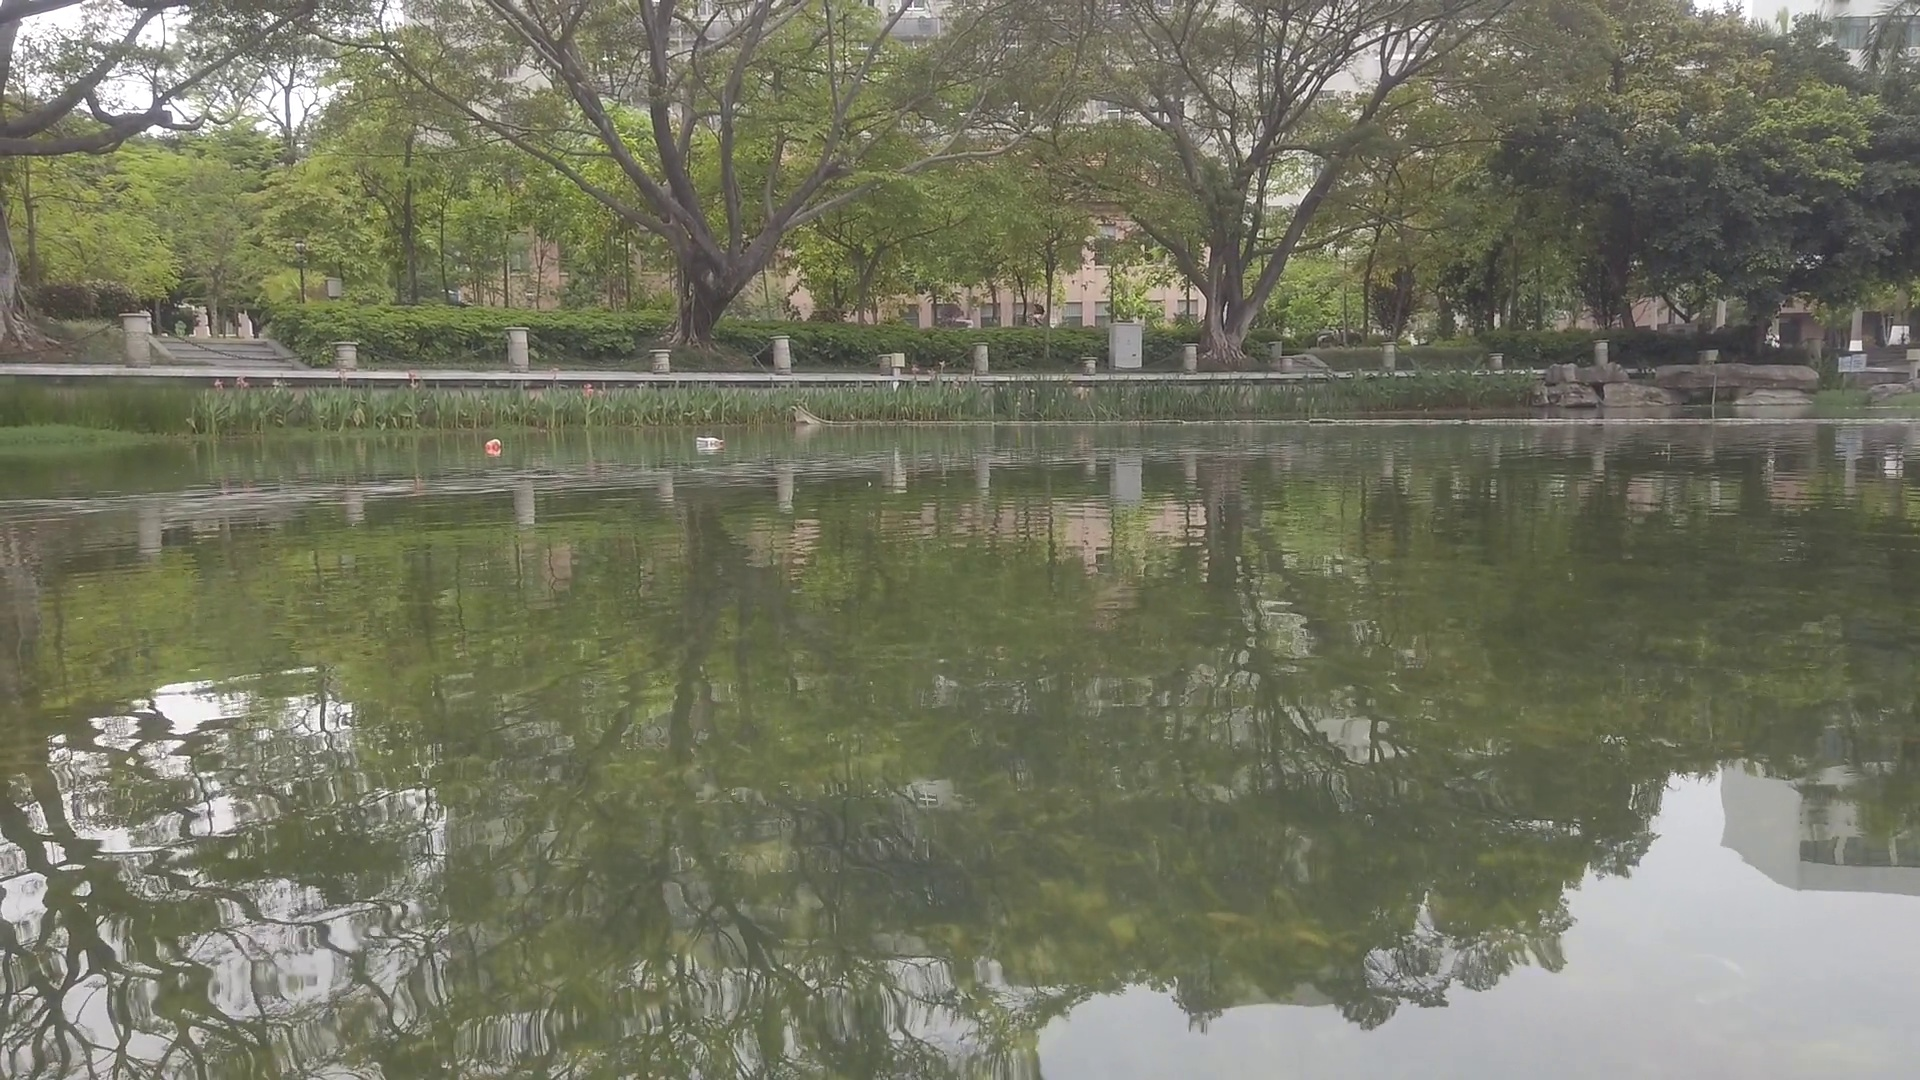bottle: (694, 435, 725, 448), (484, 438, 501, 455)
